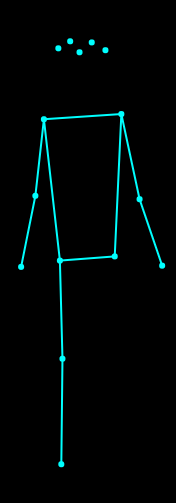mountain: (14, 32, 168, 471)
